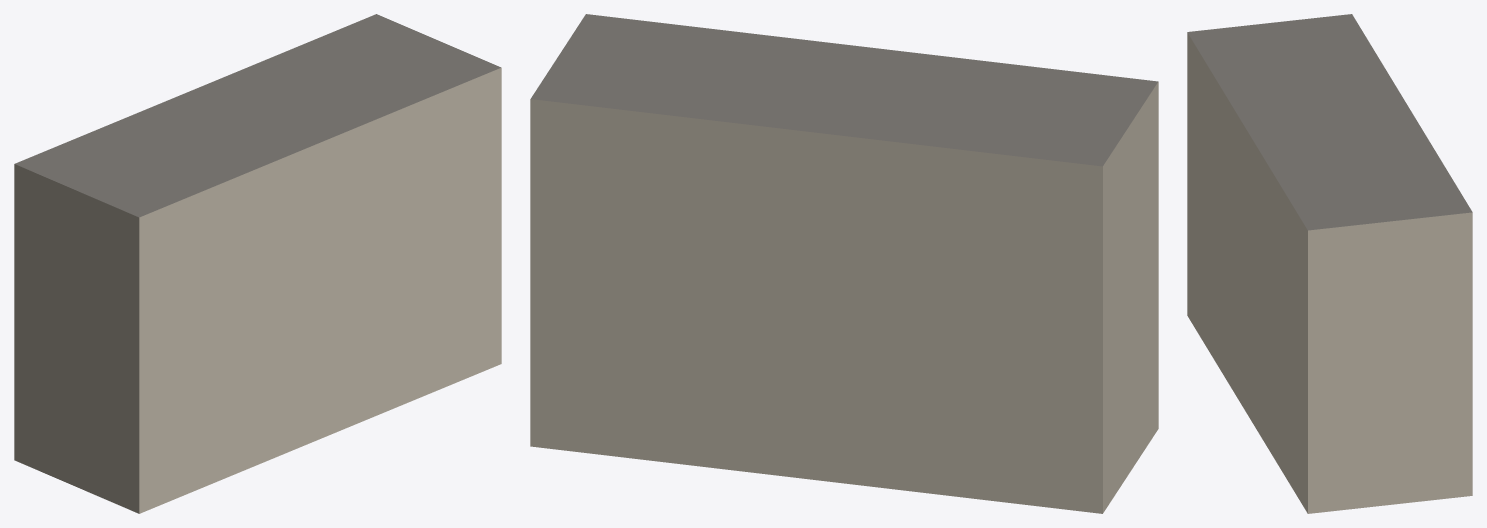
The picture shows the model from 3 angles, left to right: view 1: azimuth 30°, elevation 25°; view 2: azimuth 150°, elevation 25°; view 3: azimuth 270°, elevation 25°; orthographic projection. The views are drawn at different scales.
Visible parts, largest first — view 1: HP-w380339836; view 2: HP-w380339836; view 3: HP-w380339836.
Boxes of the visible parts, left/top/right/bottom form: HP-w380339836: left=14, top=14, right=501, bottom=513; HP-w380339836: left=530, top=14, right=1158, bottom=513; HP-w380339836: left=1187, top=14, right=1472, bottom=513.
Bounding box in the file's own units: 24.57 × 15 × 13.69.
